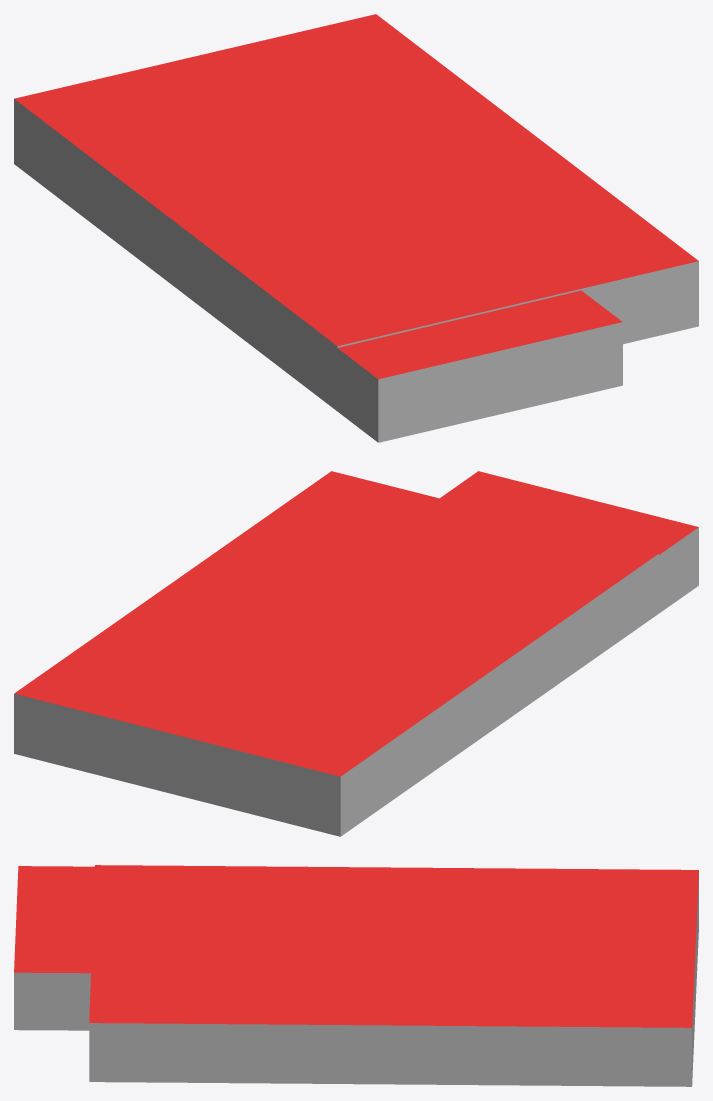
Rendered from DEBE3D04YY500003uh.dae.
3 renders of one model, top to bottom at view 1: azimuth 30°, elevation 25°; view 2: azimuth 150°, elevation 25°; view 3: azimuth 270°, elevation 25°, orthographic. The views are drawn at different scales.
Size of the model in its own units: 16.4 by 29.06 by 2.76.
